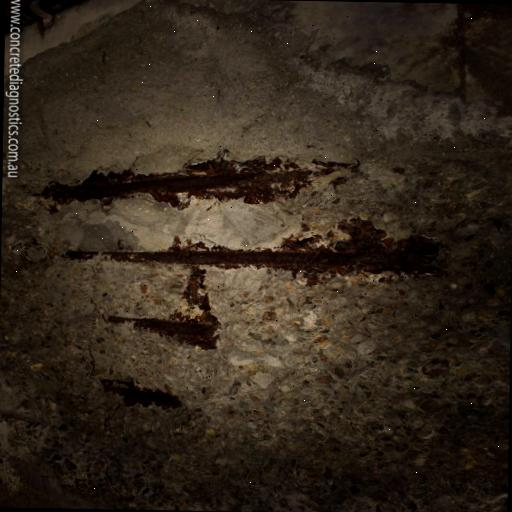spalling: (22, 143, 456, 432)
